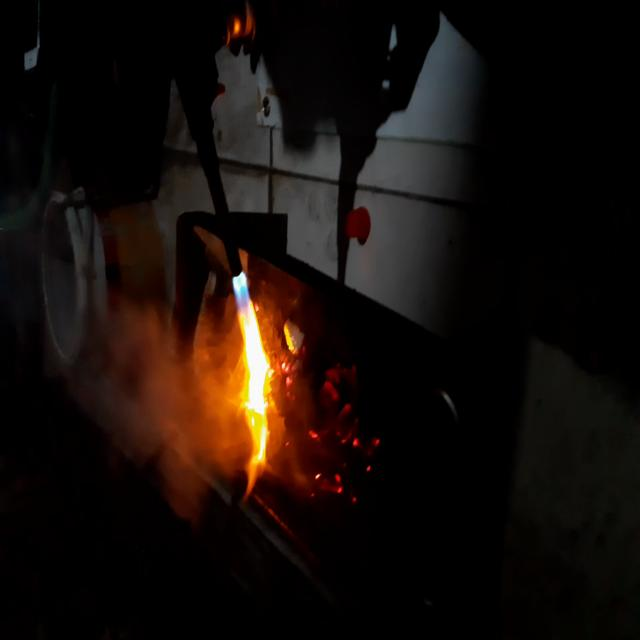Fire: (98, 306, 236, 500), (222, 266, 302, 498), (301, 343, 375, 534)
